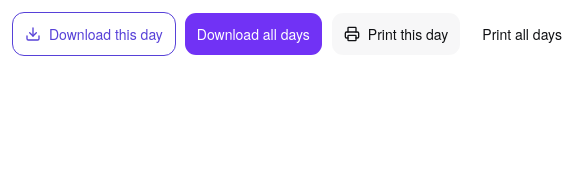
expired export tokens ask for recalculation
The image size is (579, 172).
Click the button "Download this day" at (94, 34), box x1=12 y1=12 x2=176 y2=56
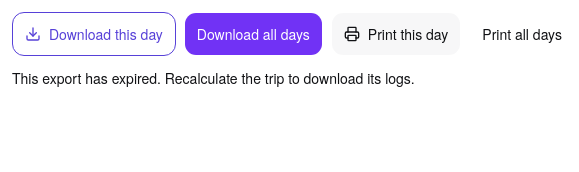
Check: the message shows "Recalculate the trip", box x1=12 y1=68 x2=415 y2=88
